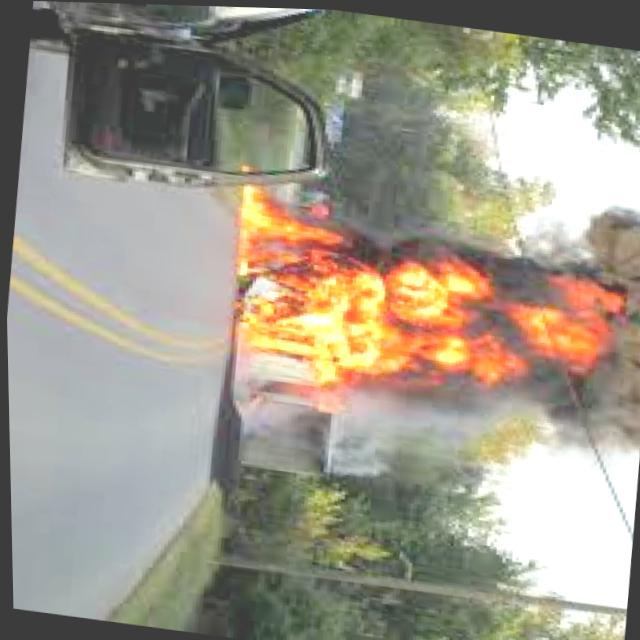helmet: (227, 183, 521, 393)
no_helmet: (421, 192, 640, 464)
